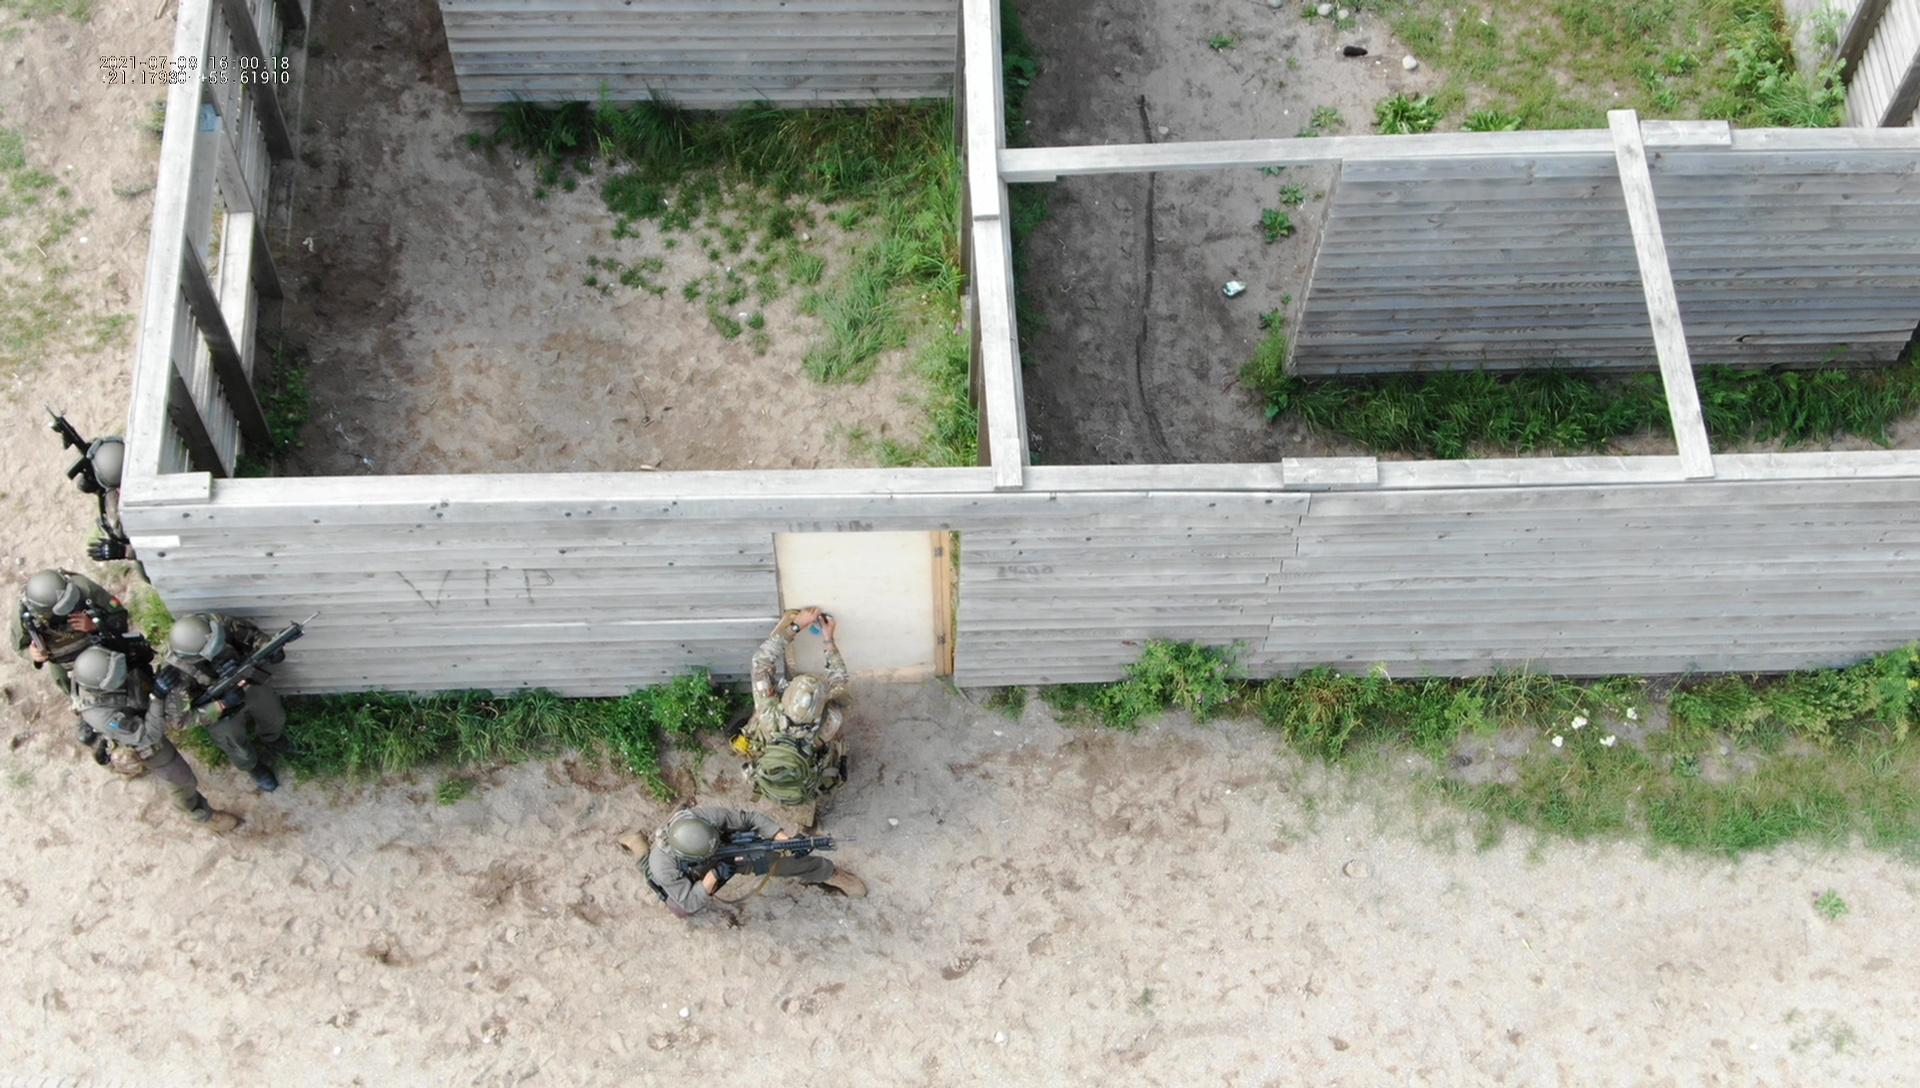Soldier: (638, 753, 907, 975), (174, 576, 349, 865), (712, 617, 895, 859), (69, 628, 243, 833), (20, 400, 135, 533), (32, 545, 146, 648)
